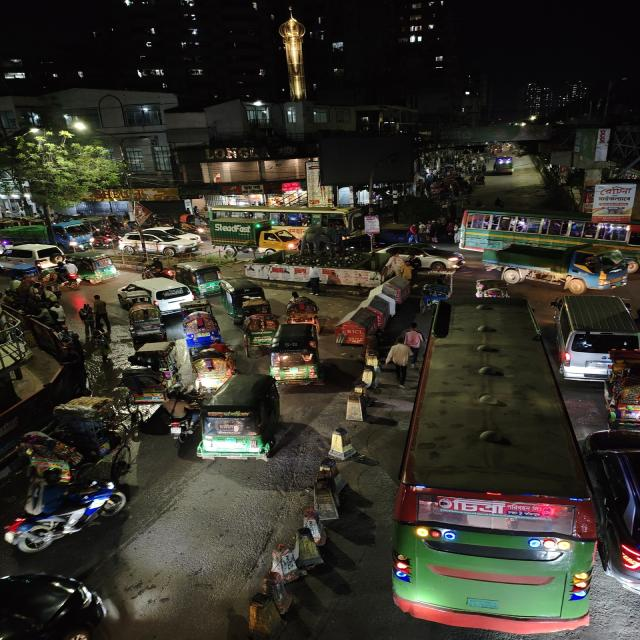bus: (390, 287, 592, 635), (471, 210, 638, 252)
car: (578, 427, 640, 584), (545, 293, 640, 381), (362, 242, 467, 270), (123, 227, 203, 256), (1, 242, 68, 272), (142, 278, 197, 312)
cng: (196, 372, 283, 466), (266, 322, 327, 385), (72, 251, 120, 285), (186, 263, 228, 294), (473, 278, 511, 300)
motorcycle: (0, 476, 128, 555), (161, 394, 194, 446)
pedestrian: (387, 338, 412, 384), (401, 325, 426, 360)
pickup_van: (478, 245, 628, 293), (32, 219, 92, 248)
rickshaw: (116, 342, 181, 406), (16, 428, 89, 484), (602, 351, 640, 429), (186, 345, 238, 392), (183, 302, 224, 344), (229, 284, 276, 320), (239, 310, 278, 352), (125, 303, 168, 340), (282, 292, 323, 326), (419, 278, 454, 308), (472, 277, 512, 301), (91, 232, 117, 250)
truck: (207, 220, 293, 256)
